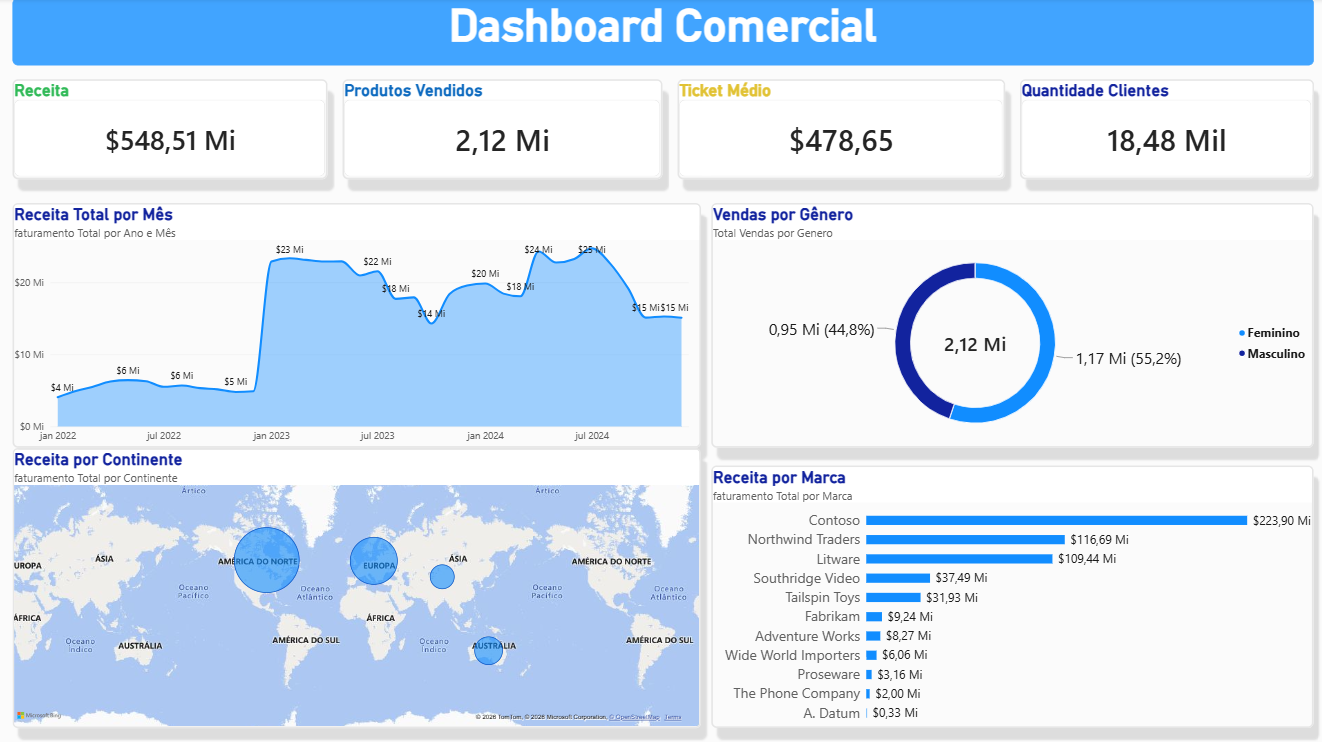

This screenshot's page, from the dashboard's own definition file:
{"tool":"powerbi","page":{"name":"Página 1","canvas":[1920,1080],"ordinal":0},"visuals":[{"type":"textbox","box":[18.1,0,1883.9,97.7],"z":0},{"type":"cardVisual","title":"Receita","fields":{"Data":["Base Vendas.faturamento Total"]},"box":[18.1,117.6,456,144.8],"z":1000},{"type":"cardVisual","title":"Produtos Vendidos","fields":{"Data":["Base Vendas.Total Vendas"]},"box":[495.8,117.6,463.3,144.8],"z":2000},{"type":"cardVisual","title":"Ticket Médio","fields":{"Data":["Base Vendas.Ticket Médio"]},"box":[980.8,117.6,474.1,144.8],"z":3000},{"type":"cardVisual","title":"Quantidade Clientes","fields":{"Data":["Base Vendas.Qtd Clientes"]},"box":[1476.7,117.6,425.3,144.8],"z":4000},{"type":"areaChart","title":"Receita Total por Mês","fields":{"Category":["Base Vendas.Data Venda.Variation.Hierarquia de datas.Ano","Base Vendas.Data Venda.Variation.Hierarquia de datas.Mês"],"Y":["Base Vendas.faturamento Total"]},"box":[18.1,296.8,997.1,354.7],"z":5000},{"type":"donutChart","title":"Vendas por Gênero","fields":{"Category":["Cadastro Clientes.Genero"],"Y":["Base Vendas.Total Vendas"]},"box":[1029.7,296.8,872.3,354.7],"z":6000},{"type":"barChart","title":"Receita por Marca","fields":{"Category":["Cadastro Produtos.Marca"],"Y":["Base Vendas.faturamento Total"]},"box":[1029.7,676.8,872.3,380],"z":7000},{"type":"map","title":"Receita por Continente","fields":{"Category":["Cadastro Lojas.Continente"],"Size":["Base Vendas.faturamento Total"]},"box":[18.1,651.5,997.1,405.4],"z":8000}]}

Visuals, with their boxes in screenshot pixels (x1, y1, x2, y2), scaled from the page's 1920x1080 canvas onto the 1322x742 screenshot:
textbox: 12 0 1310 67
"Receita" cardVisual: 12 81 326 180
"Produtos Vendidos" cardVisual: 341 81 660 180
"Ticket Médio" cardVisual: 675 81 1002 180
"Quantidade Clientes" cardVisual: 1017 81 1310 180
"Receita Total por Mês" areaChart: 12 204 699 448
"Vendas por Gênero" donutChart: 709 204 1310 448
"Receita por Marca" barChart: 709 465 1310 726
"Receita por Continente" map: 12 448 699 726
